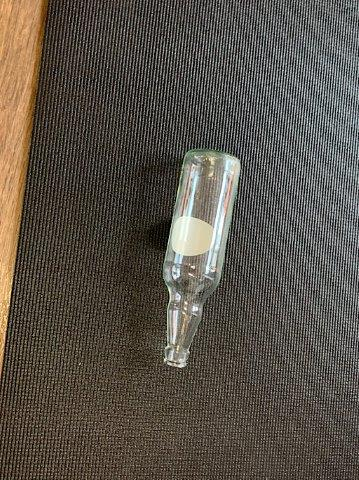botolkaca: (163, 150, 240, 369)
